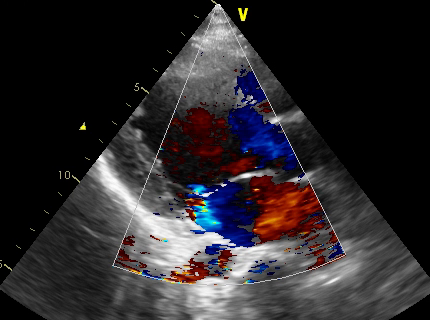MR: (187, 184, 223, 231)
